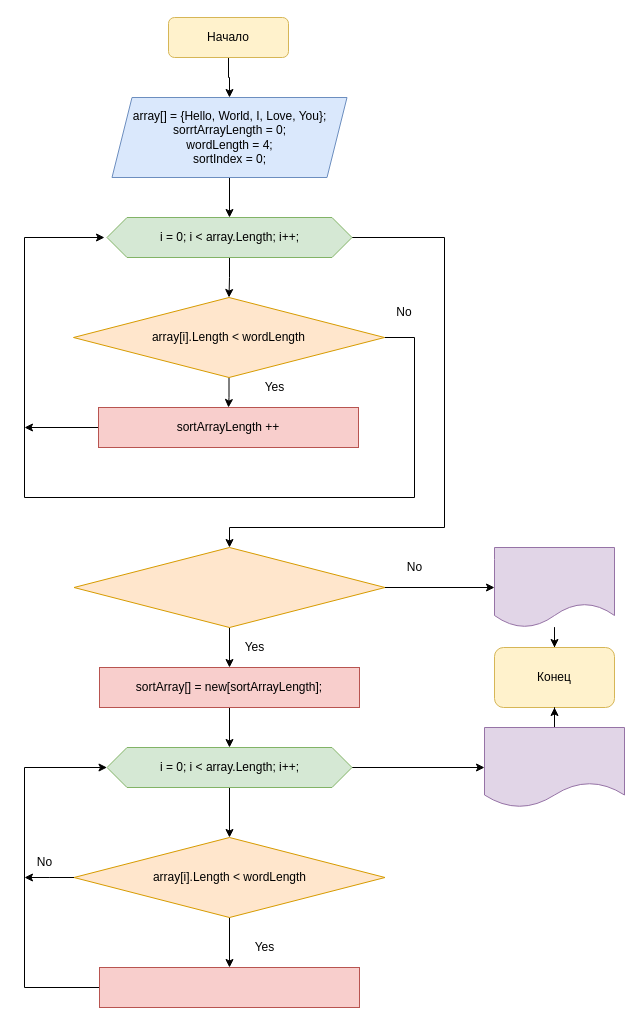
Some shapes in this 642 by 1025 pixel diagram are drawn without their labels. The shapes that lost their labels are listed below. From the top down, each one's centre as x and y in pixels, then its label:
(x=229, y=587): sortArrayLength > 0
(x=554, y=587): ConsoleWrite([])
(x=554, y=767): ConsoleWrite(sortArray)
(x=229, y=987): sortArray[sorttCount] = array[i]; sortIndex++;
